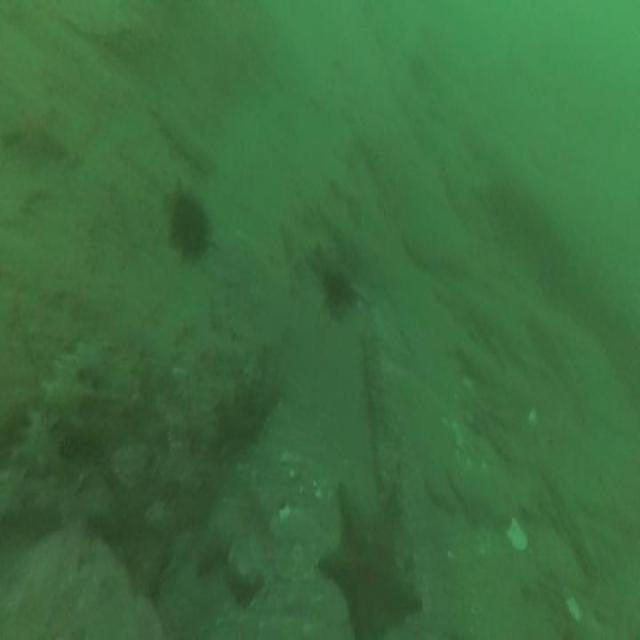echinus: (172, 196, 209, 258), (324, 276, 351, 312)
holothurian: (9, 338, 108, 476)
scallop: (508, 520, 529, 551), (565, 596, 584, 626)
starfish: (320, 485, 422, 639)
